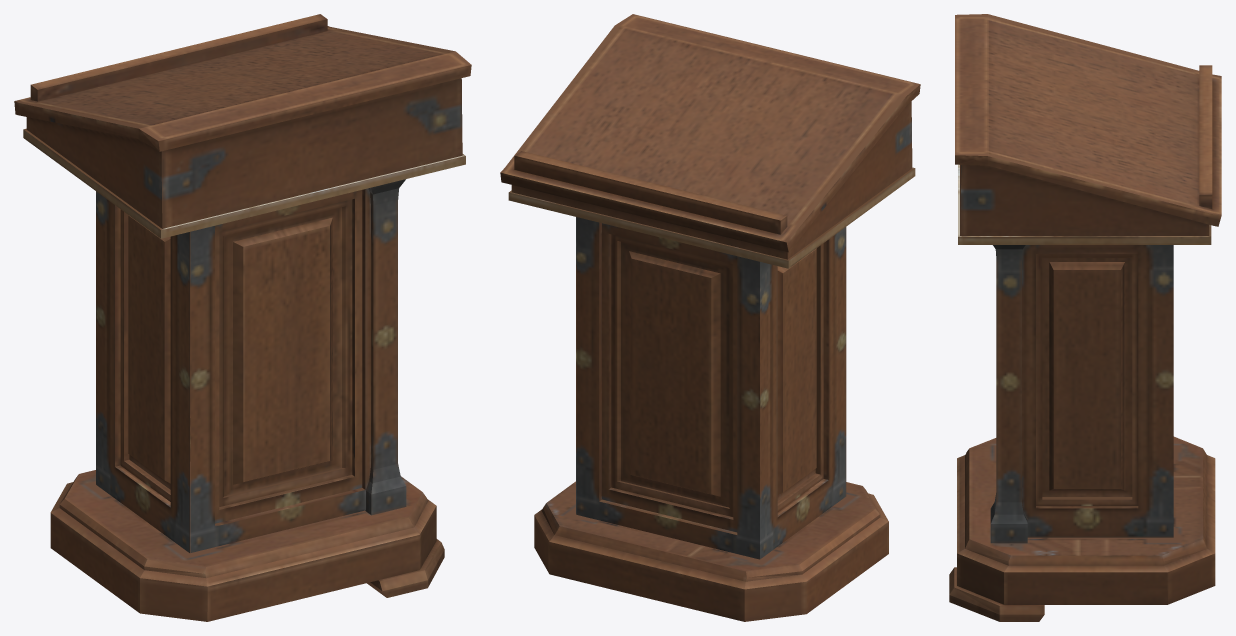
Rendered from Lectern.fbx.
3 renders of one model, left to right at view 1: azimuth 30°, elevation 25°; view 2: azimuth 150°, elevation 25°; view 3: azimuth 270°, elevation 25°, orthographic. The views are drawn at different scales.
Visible parts, largest first — view 1: Lectern_Low; view 2: Lectern_Low; view 3: Lectern_Low.
Boxes of the visible parts, <box> form: Lectern_Low: <box>14,14,471,621</box>; Lectern_Low: <box>500,14,920,621</box>; Lectern_Low: <box>949,14,1221,621</box>.
Size of the model in its own units: 0.6505 by 0.9992 by 0.5268.
